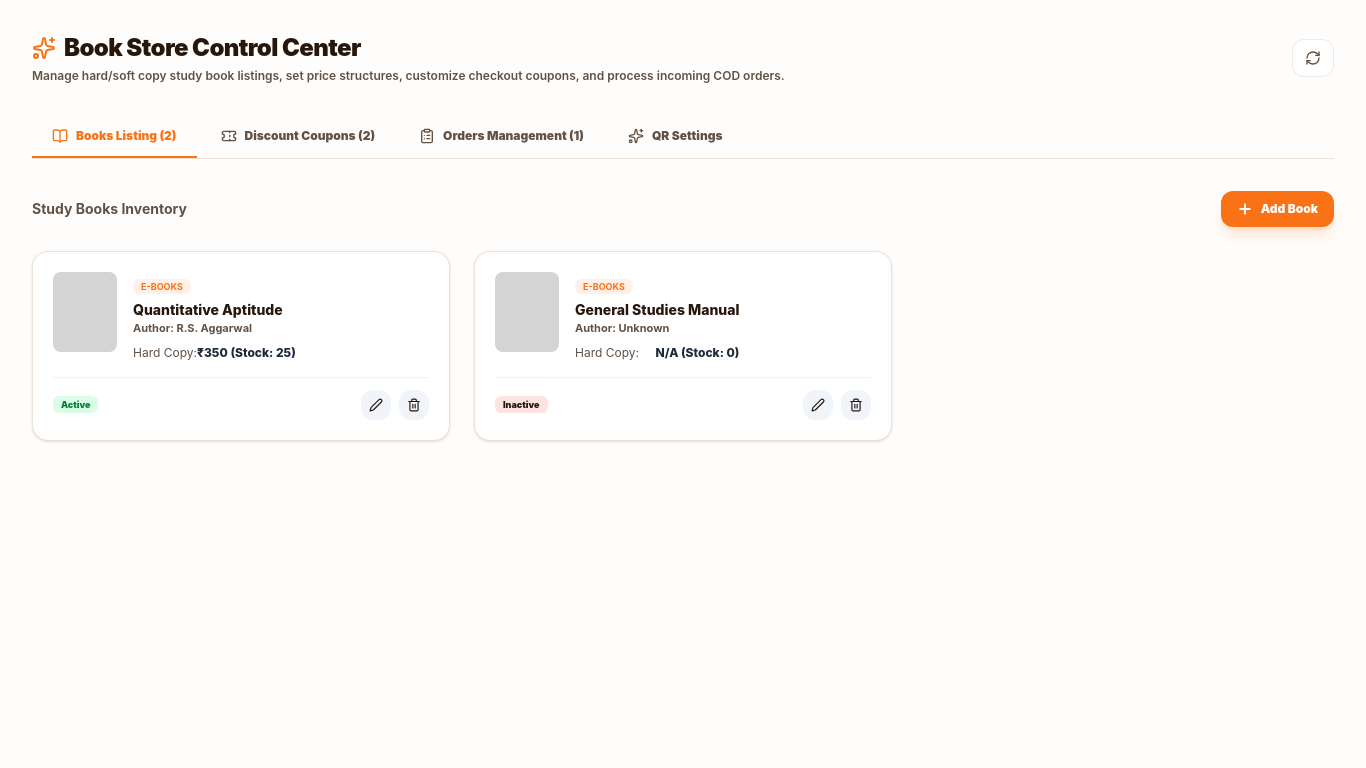
Test case: BookStorePage › shows the empty QR state and disables submit without a file
Click the button "QR Settings".
click(675, 137)  # box x1=608 y1=116 x2=742 y2=158
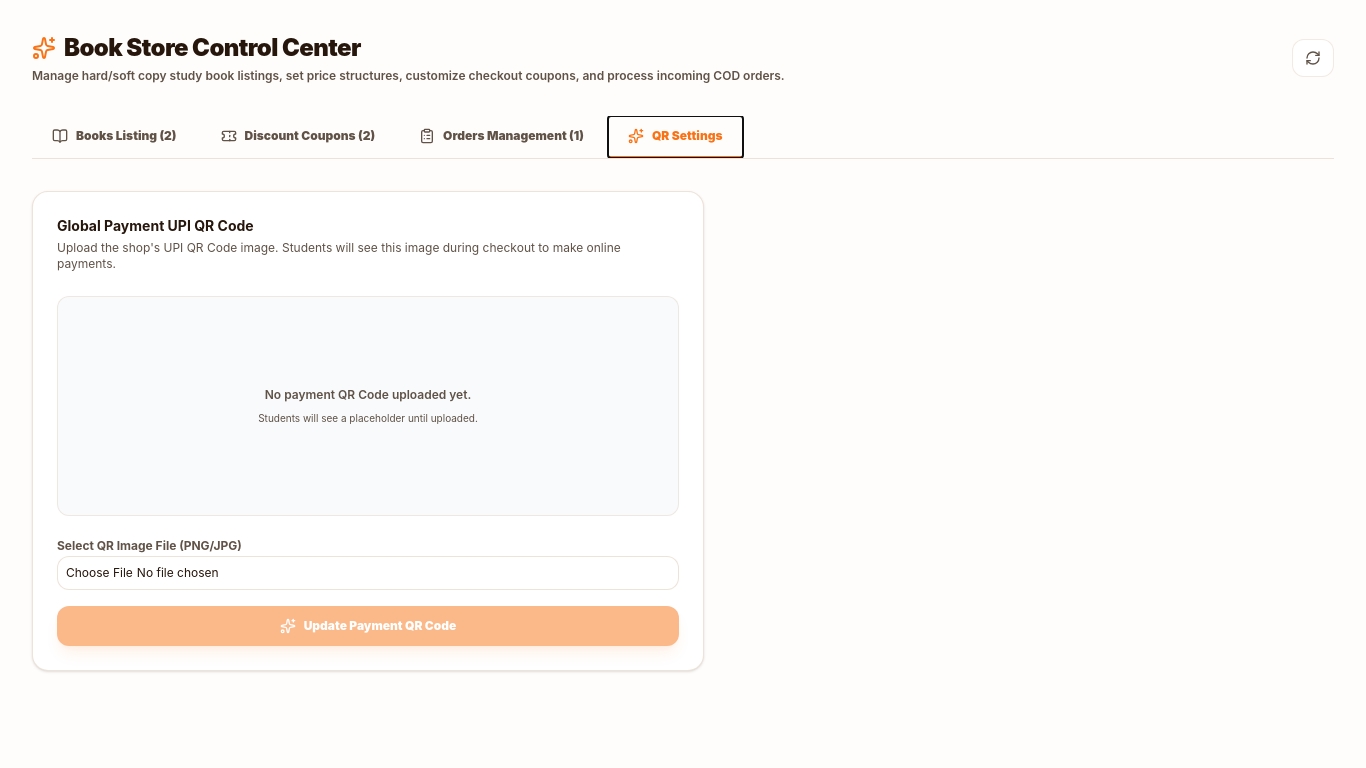
Result: the heading "Global Payment UPI QR Code" is shown at x1=57 y1=217 x2=254 y2=234
Result: the text "No payment QR Code uploaded yet." is shown at x1=258 y1=386 x2=478 y2=402
Result: the button "Update Payment QR Code" is disabled at x1=57 y1=606 x2=679 y2=646
